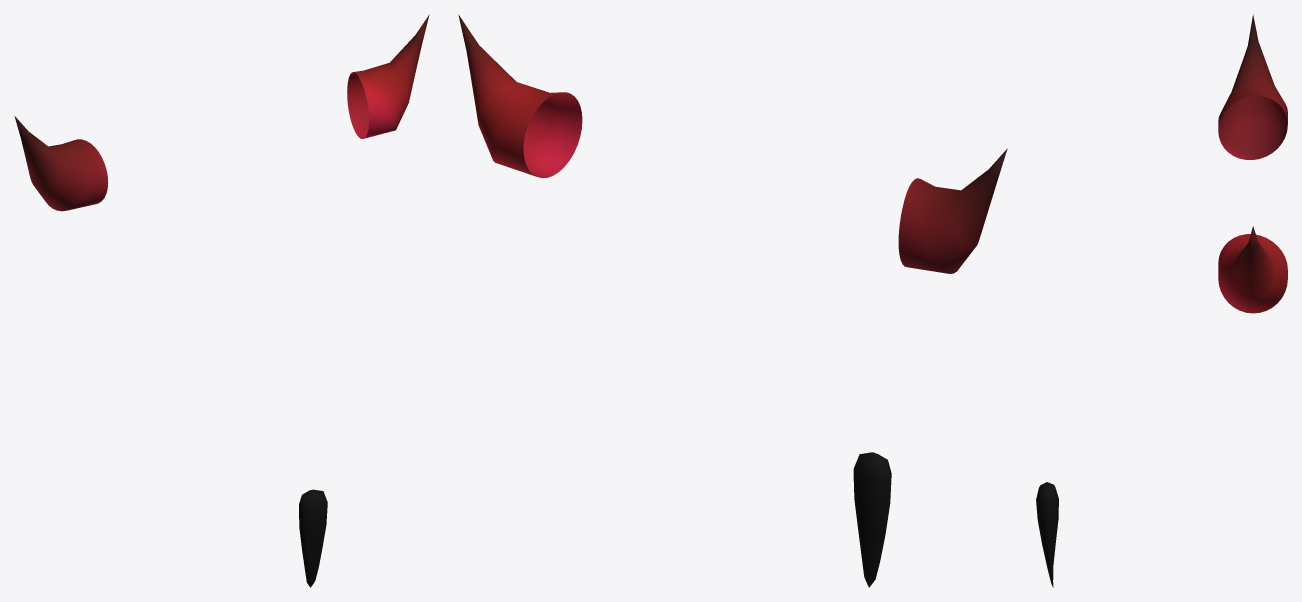
The model's file is SM_Devil_00.fbx.
3 renders of one model, left to right at view 1: azimuth 30°, elevation 25°; view 2: azimuth 150°, elevation 25°; view 3: azimuth 270°, elevation 25°, orthographic. The views are drawn at different scales.
Visible parts, largest first — view 1: SM_Devil_00; view 2: SM_Devil_00; view 3: SM_Devil_00.
Boxes of the visible parts, x1,y1,x2,y2 form: SM_Devil_00: [14, 14, 429, 587]; SM_Devil_00: [458, 14, 1007, 587]; SM_Devil_00: [1036, 14, 1287, 587].
Size of the model in its own units: 37.2 by 38.64 by 18.7.
